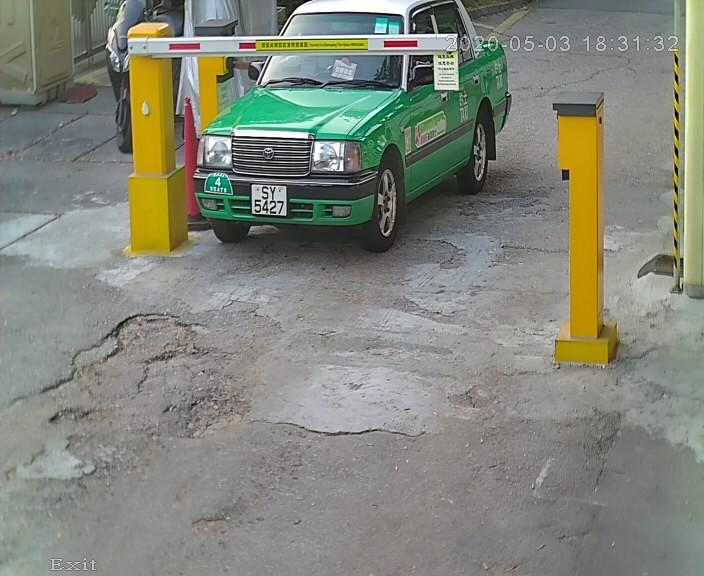Car: (188, 1, 517, 259)
License Plate: (242, 175, 295, 225)
